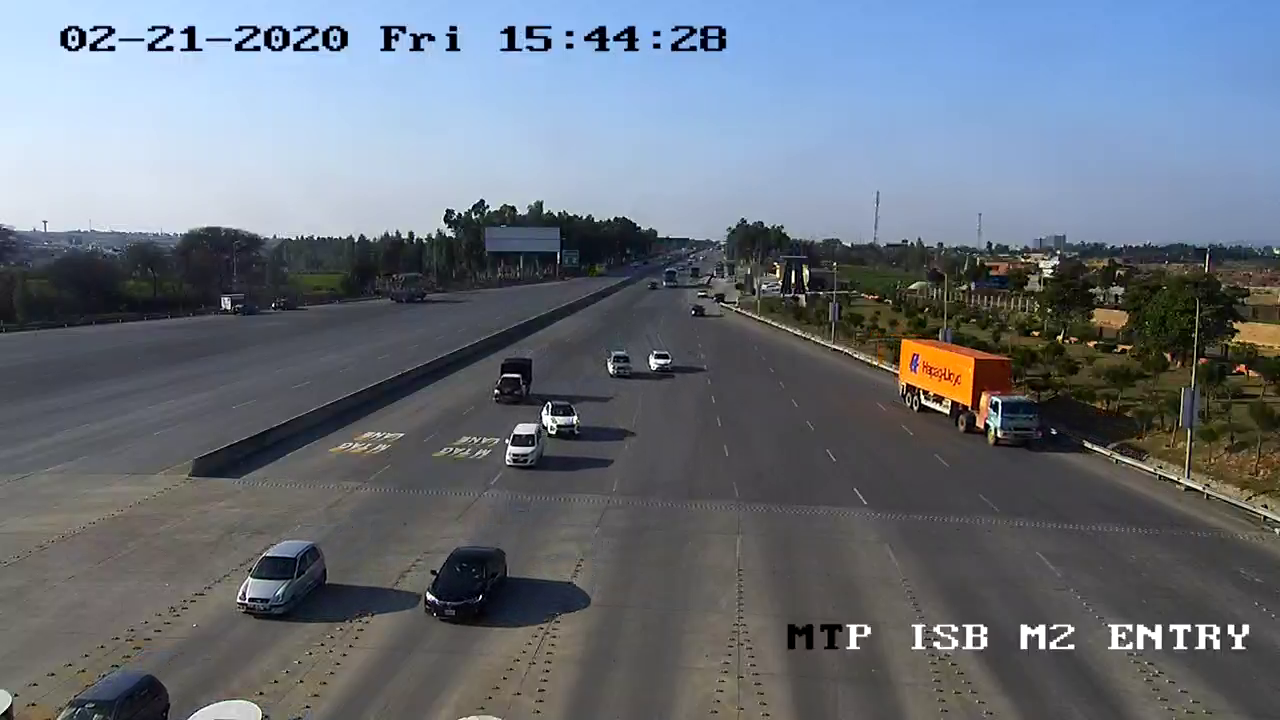f1: (411, 538, 520, 635), (227, 534, 335, 628), (499, 415, 546, 478)
f6: (891, 329, 1051, 460)
